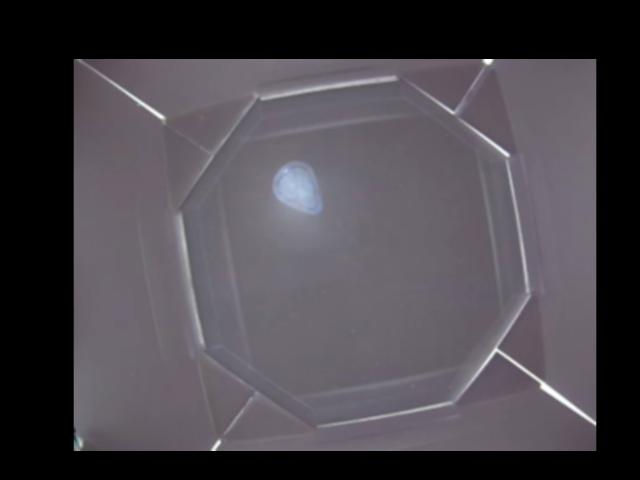Pebble: (269, 160, 322, 215)
